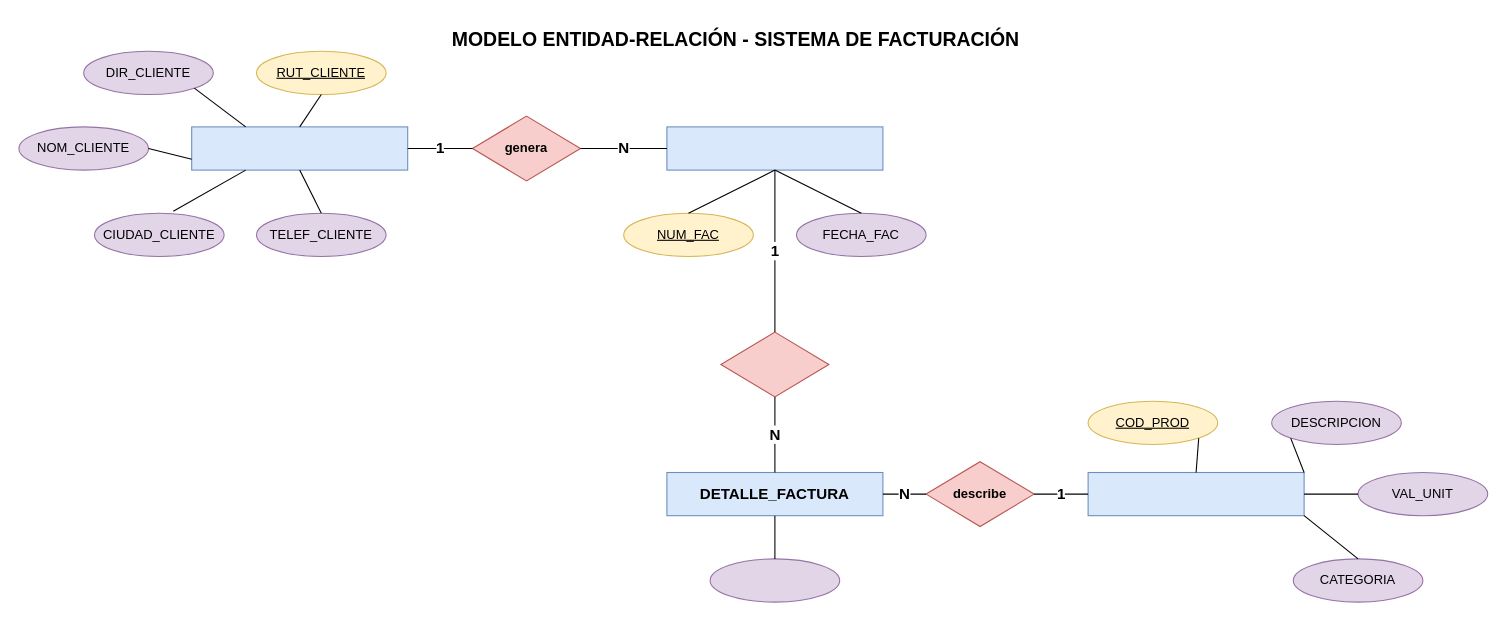
This 1507x621 diagram has some shape labels left out. The shapes that lost their labels are listed below. From the top down, each one's box as (x1, y1, x2, y2) in pixels, then its label:
(191, 126, 408, 170): CLIENTE
(666, 126, 883, 170): FACTURA
(720, 331, 829, 397): contiene
(1087, 471, 1304, 516): PRODUCTO
(709, 558, 840, 602): CANT_PROD
